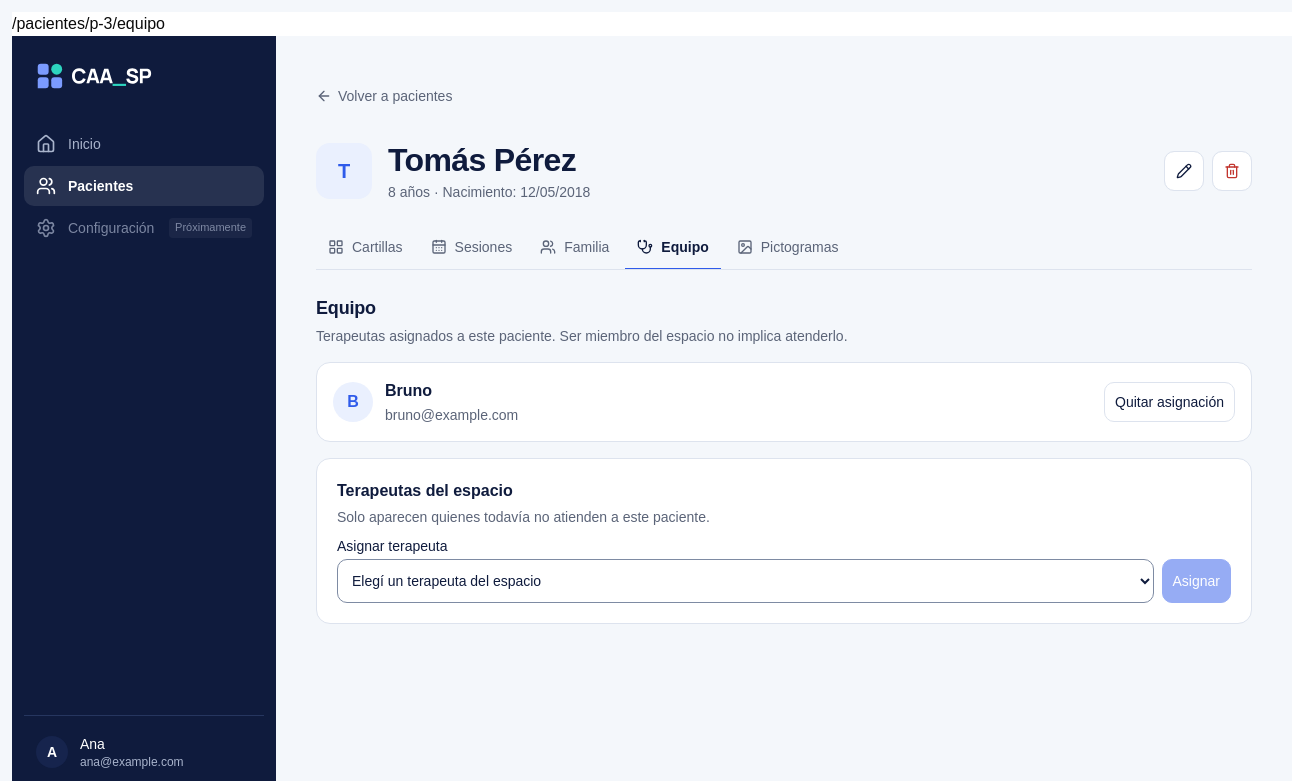
PatientTherapistsPage › unassigns only after confirmation, keeping the membership untouched
This screenshot has width=1292, height=781.
Click the button "Quitar asignación": point(1170, 402) 1104,382 -> 1235,422
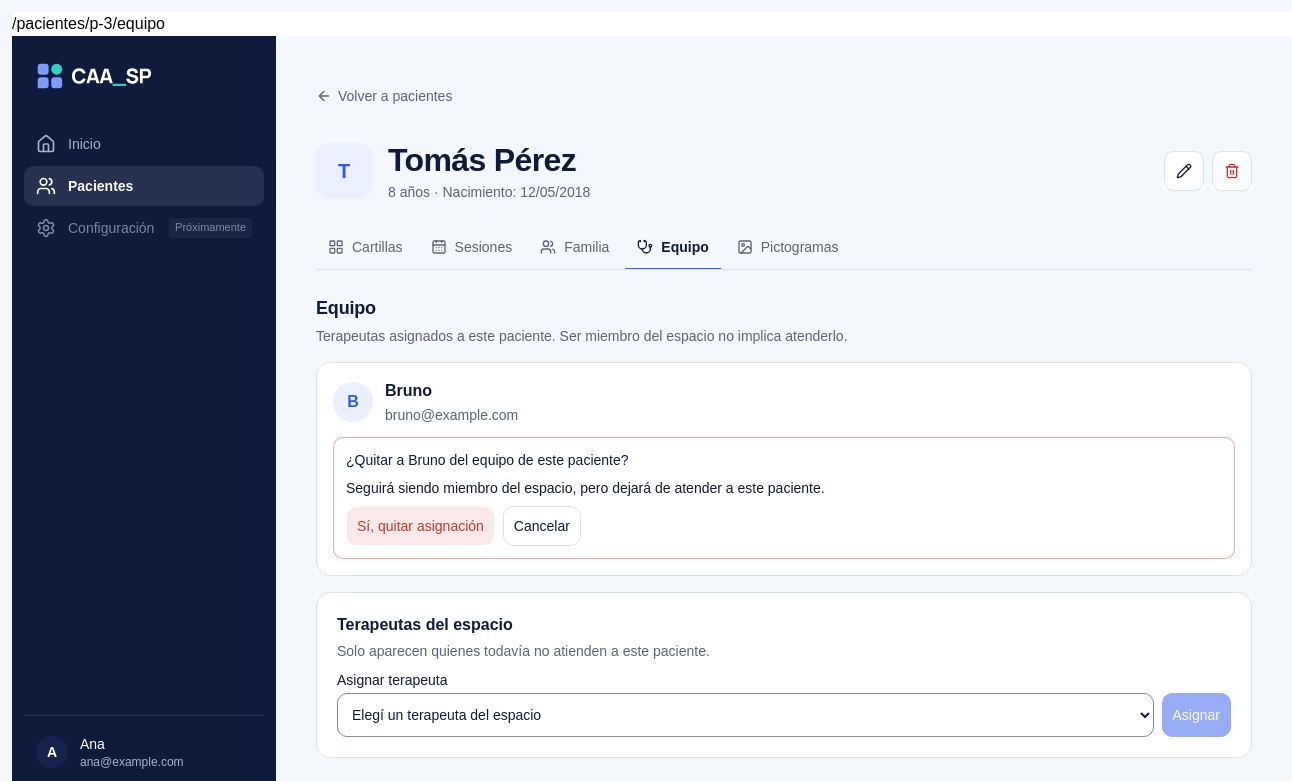
Expected: the text "Seguirá siendo miembro del espacio, pero dejará de atender a este paciente." is shown, 346,480 -> 825,496
Click the button "Sí, quitar asignación": point(420, 526) 346,506 -> 495,546
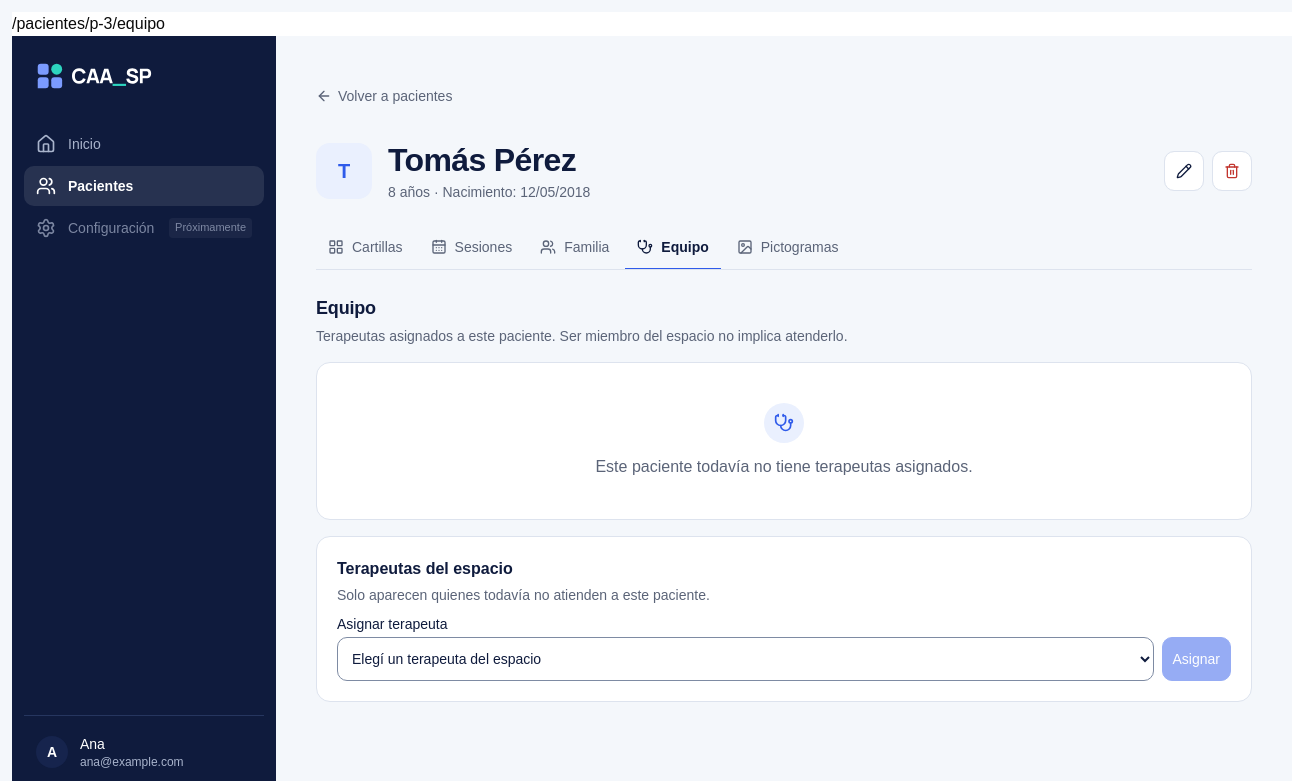
Expected: the text "Este paciente todavía no tiene terapeutas asignados." is shown, 595,455 -> 973,479
